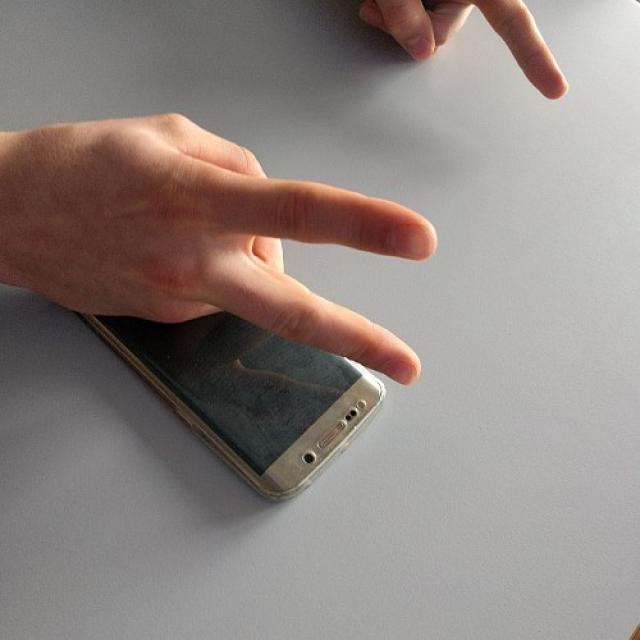scissors: (20, 120, 438, 386)
